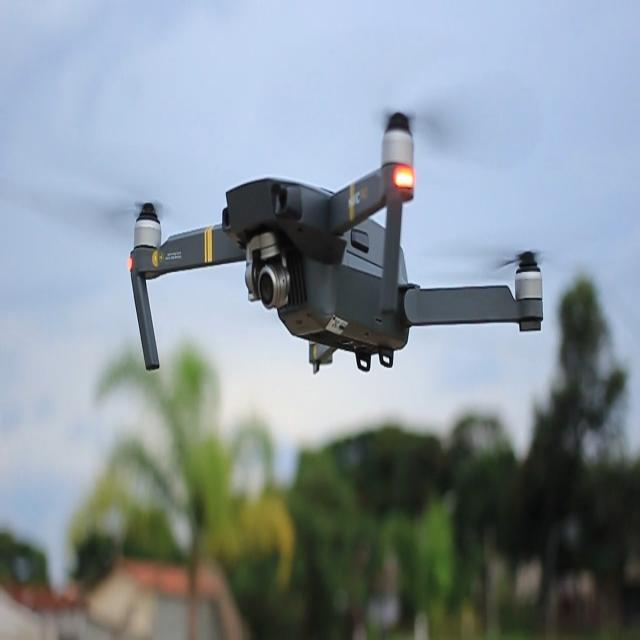Drone: (126, 116, 540, 375)
